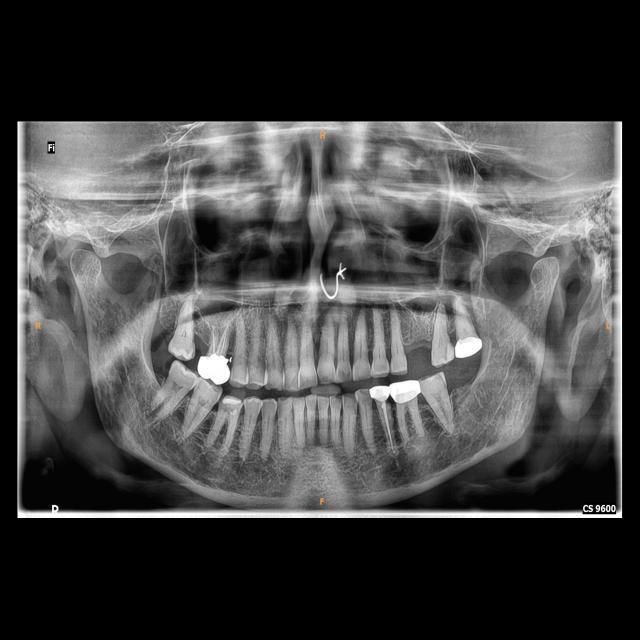kanal-tedavisi: (375, 404, 403, 454), (202, 315, 230, 355)
kaplama: (194, 351, 236, 388), (451, 334, 486, 361), (386, 379, 423, 404), (364, 382, 392, 404)
kok-enfeksiyonu: (378, 446, 428, 492)
